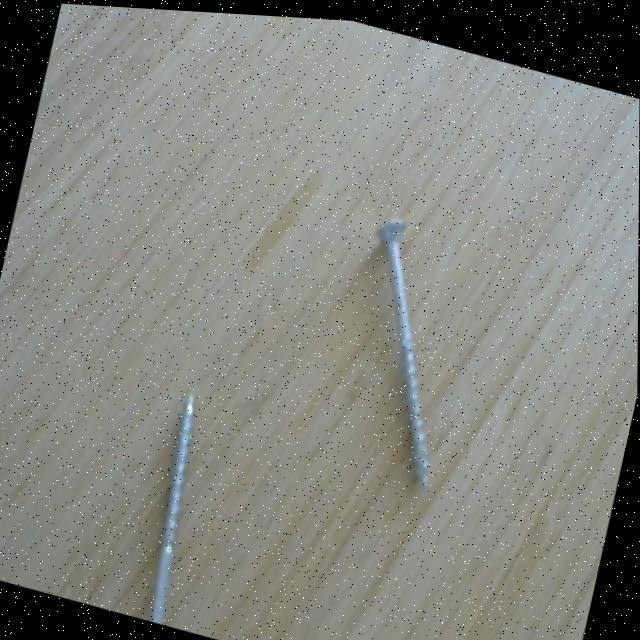Long screw: (318, 193, 488, 498), (129, 380, 223, 627)
